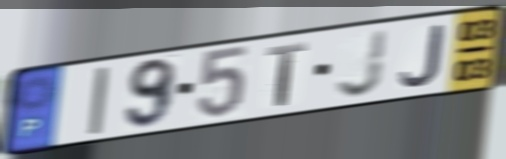5: (195, 42, 251, 122)
9: (124, 55, 180, 132)
I: (86, 63, 112, 138)
J: (333, 26, 391, 100), (398, 22, 445, 88)
T: (264, 40, 310, 109)
